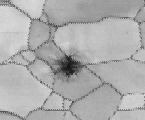good_void: (53, 53, 88, 81)
